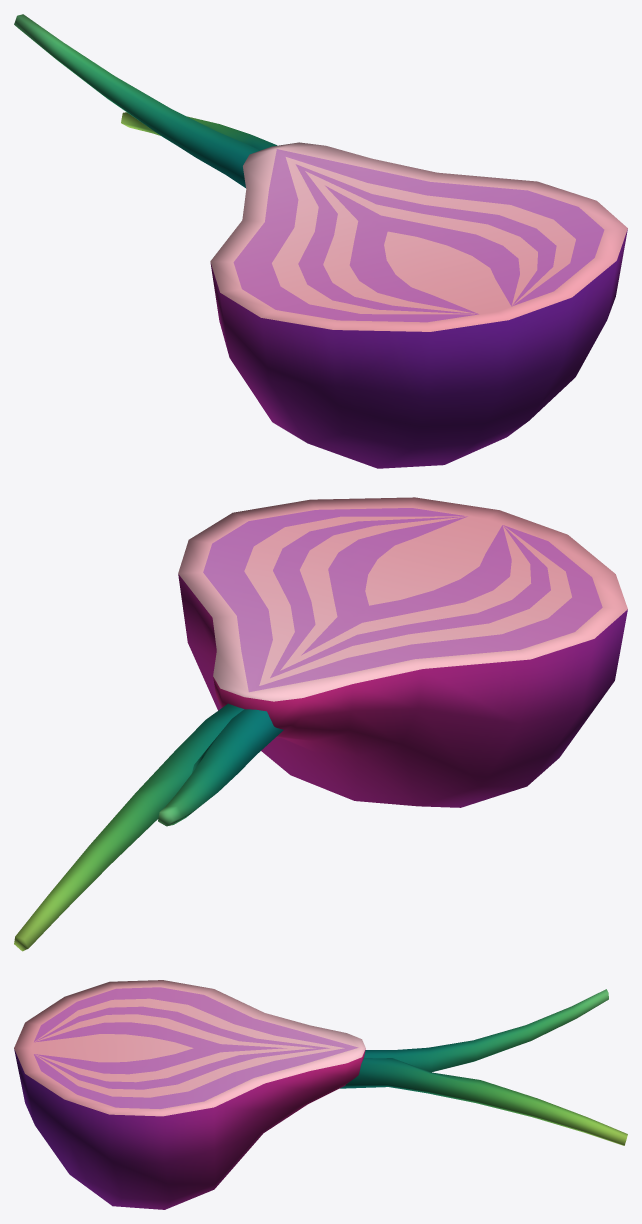
The model's file is onion_003.fbx.
The picture shows the model from 3 angles, top to bottom: view 1: azimuth 30°, elevation 25°; view 2: azimuth 150°, elevation 25°; view 3: azimuth 270°, elevation 25°; orthographic projection. The views are drawn at different scales.
Visible parts, largest first — view 1: onion_003; view 2: onion_003; view 3: onion_003.
Boxes of the visible parts, x1,y1,x2,y2 form: onion_003: (14, 14, 627, 468); onion_003: (14, 497, 627, 951); onion_003: (14, 980, 627, 1209).
Bounding box in the file's own units: 7.81 × 14.86 × 4.59.
